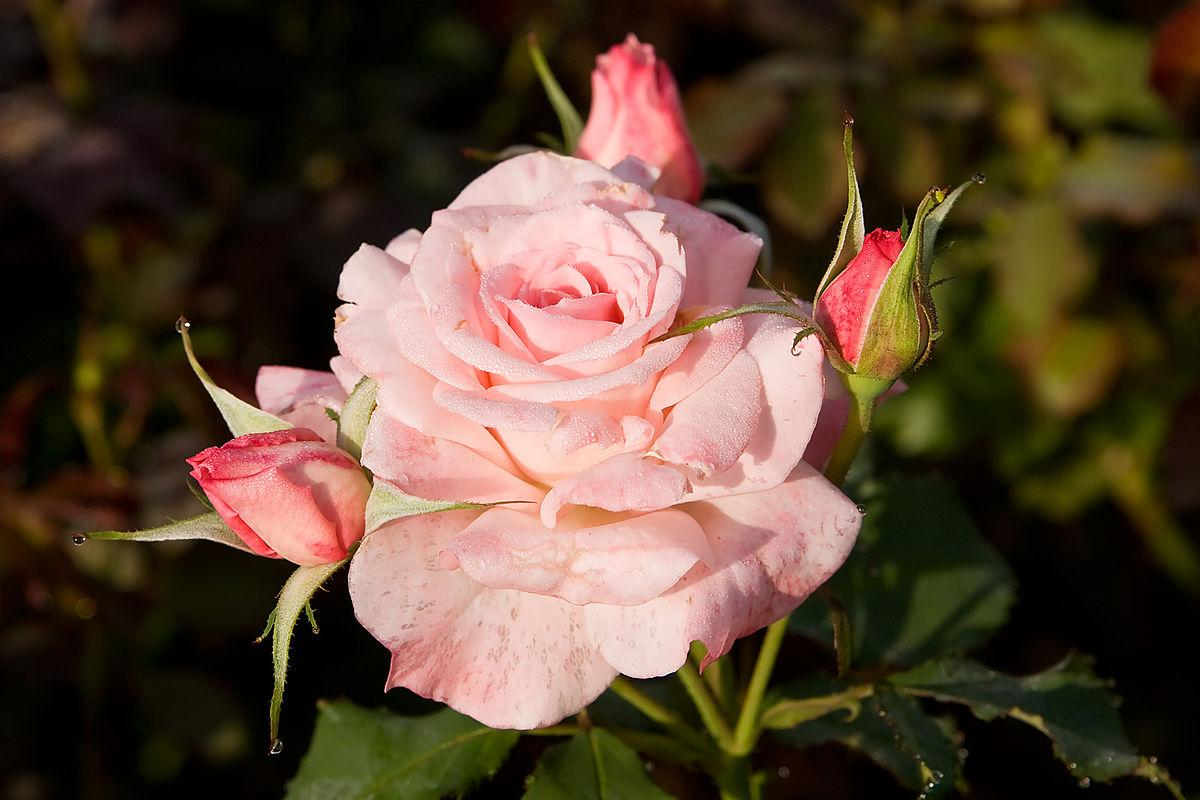Rose: (284, 149, 866, 728), (137, 415, 374, 573), (784, 197, 950, 373), (571, 34, 747, 189)
